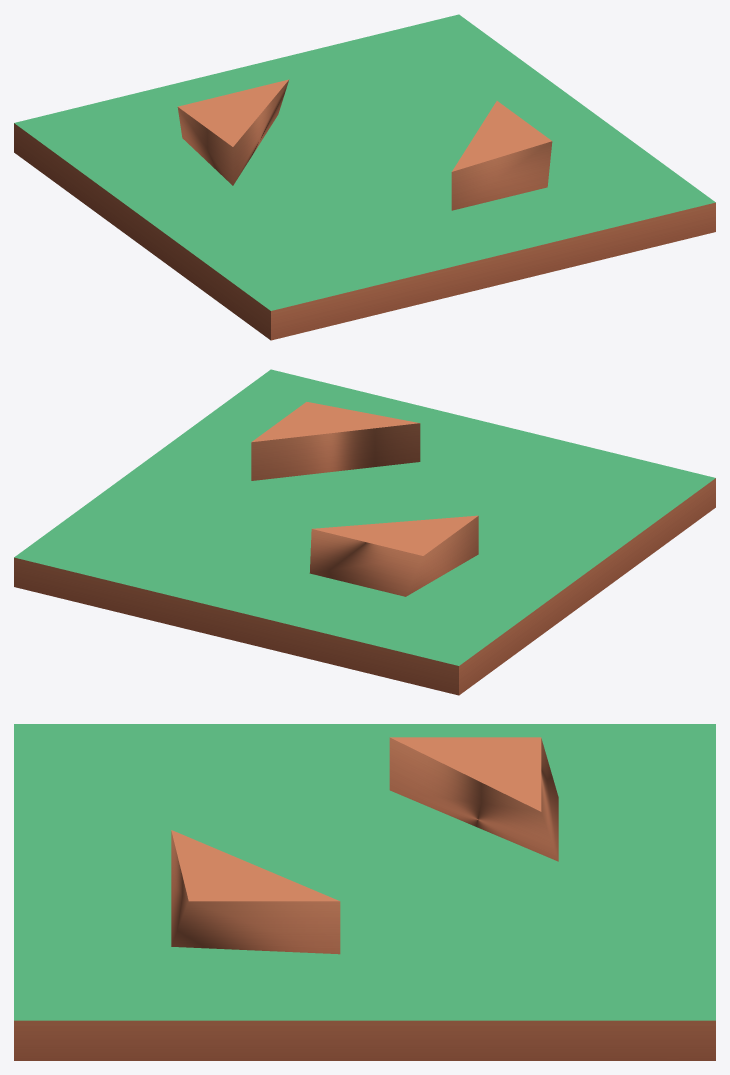
Rendered from cc0-obstacle-triangle-lod1.glb.
The picture shows the model from 3 angles, top to bottom: view 1: azimuth 30°, elevation 25°; view 2: azimuth 150°, elevation 25°; view 3: azimuth 270°, elevation 25°; orthographic projection. The views are drawn at different scales.
Parts seen in each view (by area): view 1: part_0; view 2: part_0; view 3: part_0.
Boxes of the visible parts, bbox=[...] form: part_0: bbox=[14, 14, 715, 340]; part_0: bbox=[14, 369, 715, 695]; part_0: bbox=[14, 724, 715, 1060].
Bounding box in the file's own units: 0.9999 × 0.1467 × 0.9999.
Materials: 1 (1 with a texture image).
